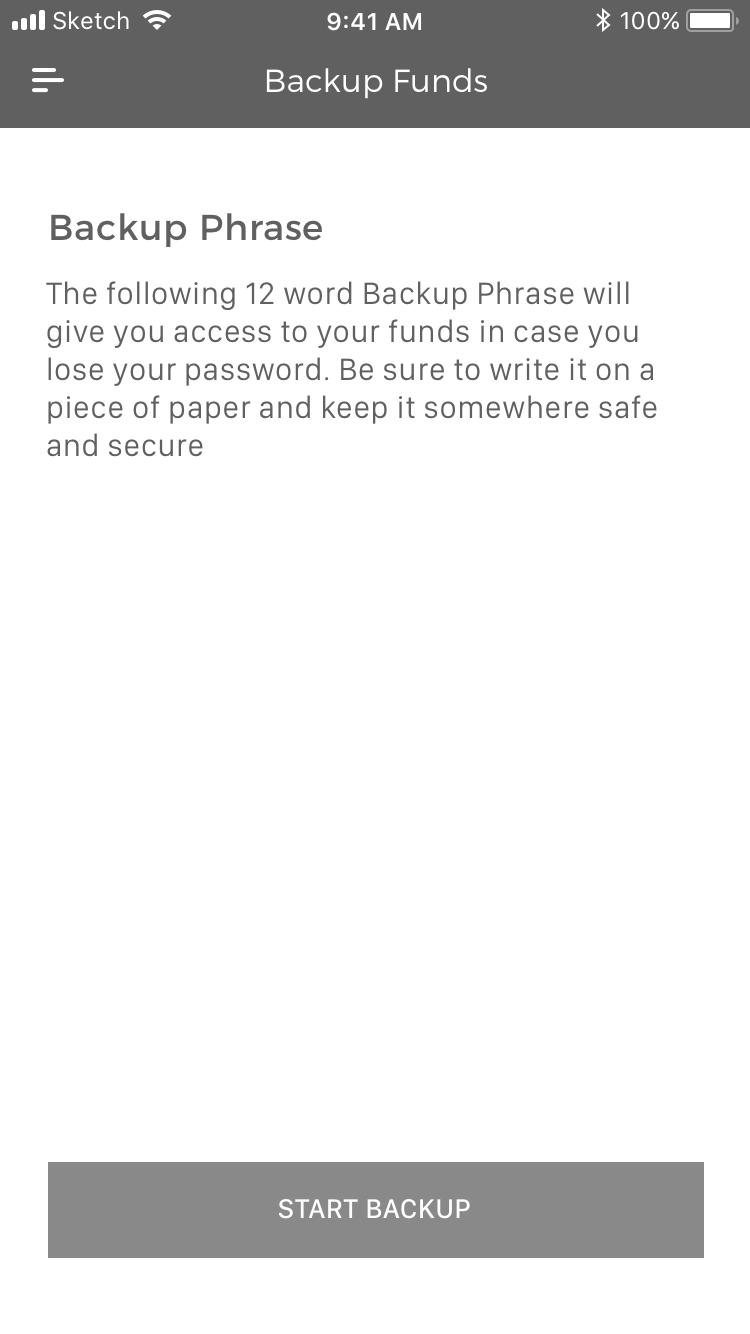Icon: (31, 67, 67, 95)
Text: (46, 281, 661, 458), (51, 213, 324, 248), (266, 68, 487, 100)
TextButton: (48, 1162, 704, 1259)
UpperTaskBar: (1, 1, 750, 35)
